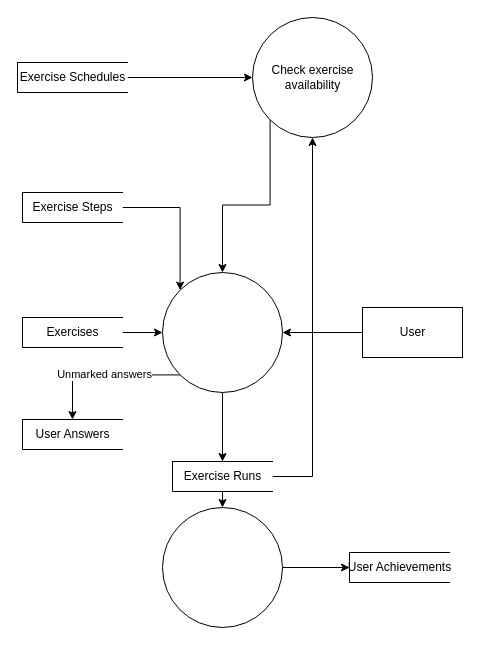
Image size: 480x645. Some labels were removed from this diagram. Each missing label, with the centre of its shape:
"Get an achievement" belongs at pixel 222 567.
"Pass an exercise" belongs at pixel 222 332.
